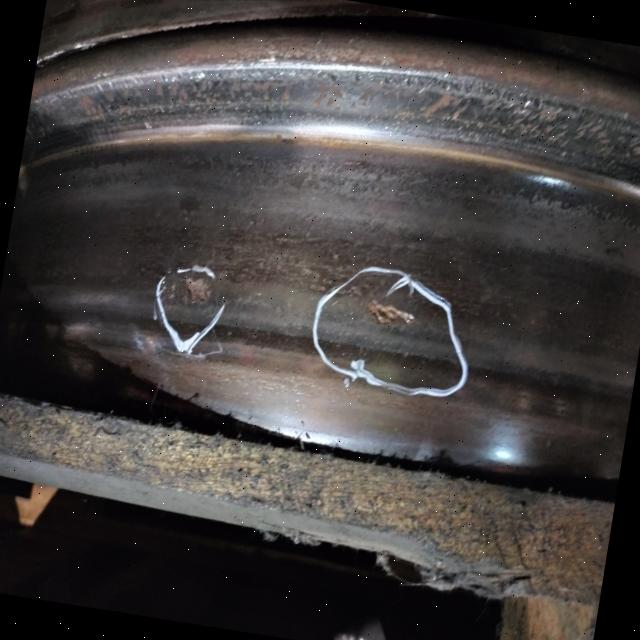Blue hole: (359, 294, 430, 349), (165, 269, 217, 318)
